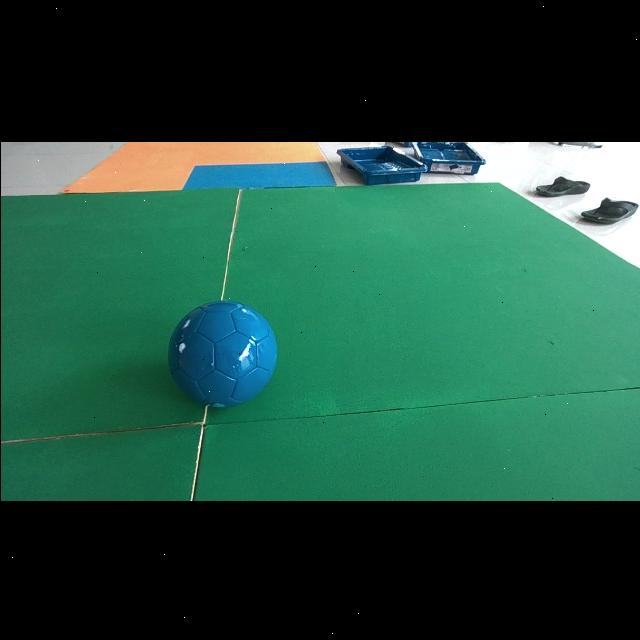B: (167, 299, 276, 406)
